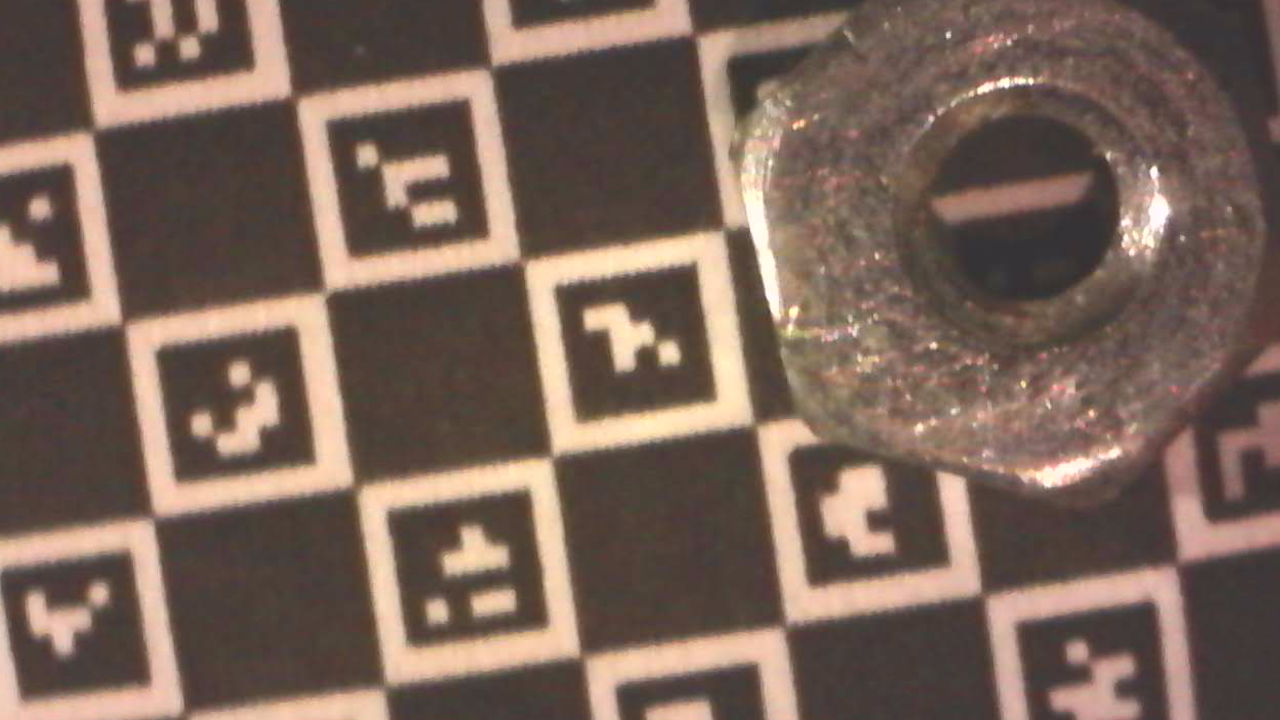Bolt: (730, 0, 1279, 519)
